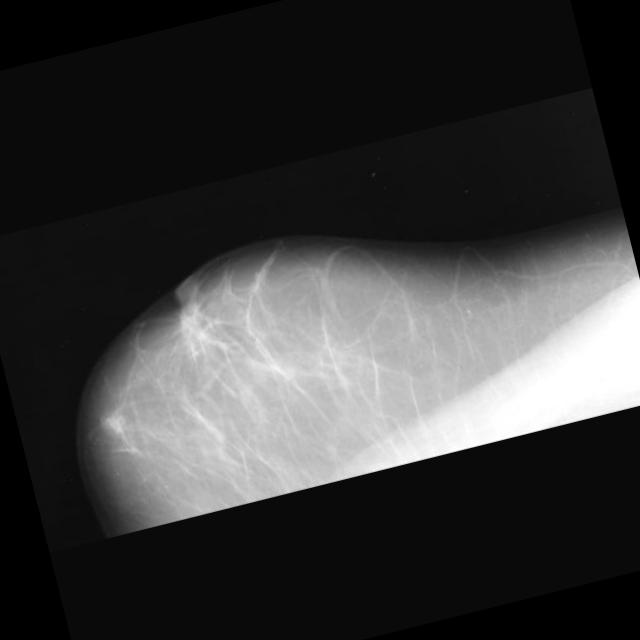CIRC: (98, 409, 128, 439)
